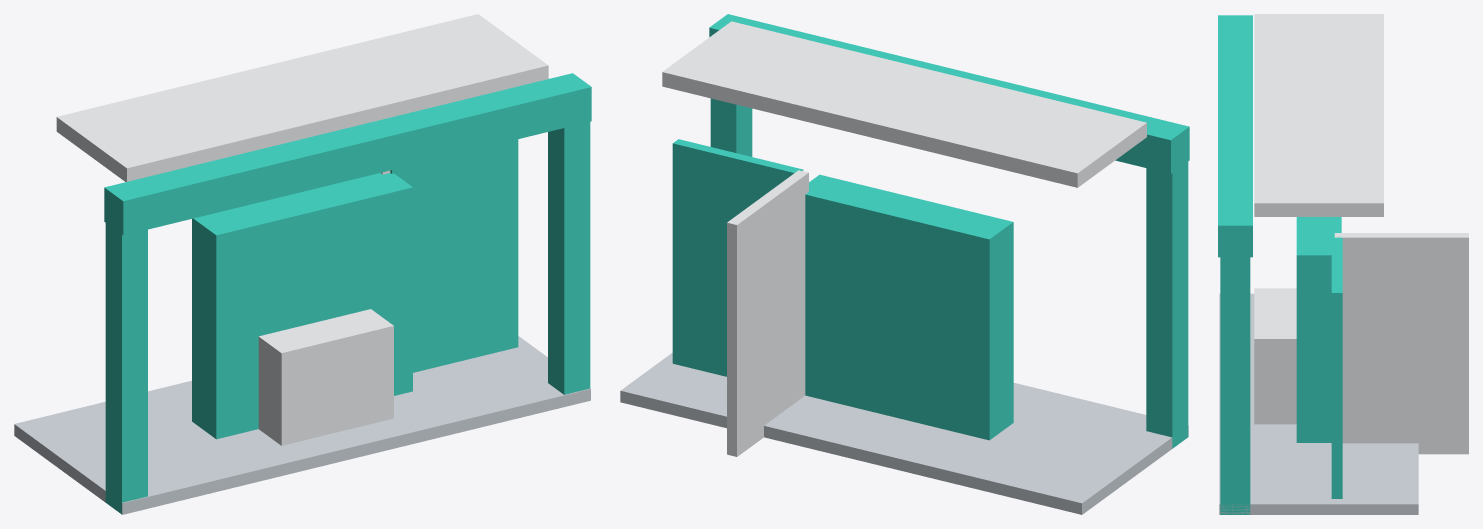
The picture shows the model from 3 angles, left to right: view 1: azimuth 30°, elevation 25°; view 2: azimuth 150°, elevation 25°; view 3: azimuth 270°, elevation 25°; orthographic projection. The views are drawn at different scales.
Visible parts, largest first — view 1: Exhibition Booth Concept; view 2: Exhibition Booth Concept; view 3: Exhibition Booth Concept.
Part boxes in pixels (x1=…): Exhibition Booth Concept: x1=14, y1=14, x2=591, y2=514; Exhibition Booth Concept: x1=620, y1=14, x2=1189, y2=514; Exhibition Booth Concept: x1=1218, y1=14, x2=1468, y2=514.
Size of the model in its own units: 5 by 3.34 by 2.52.
